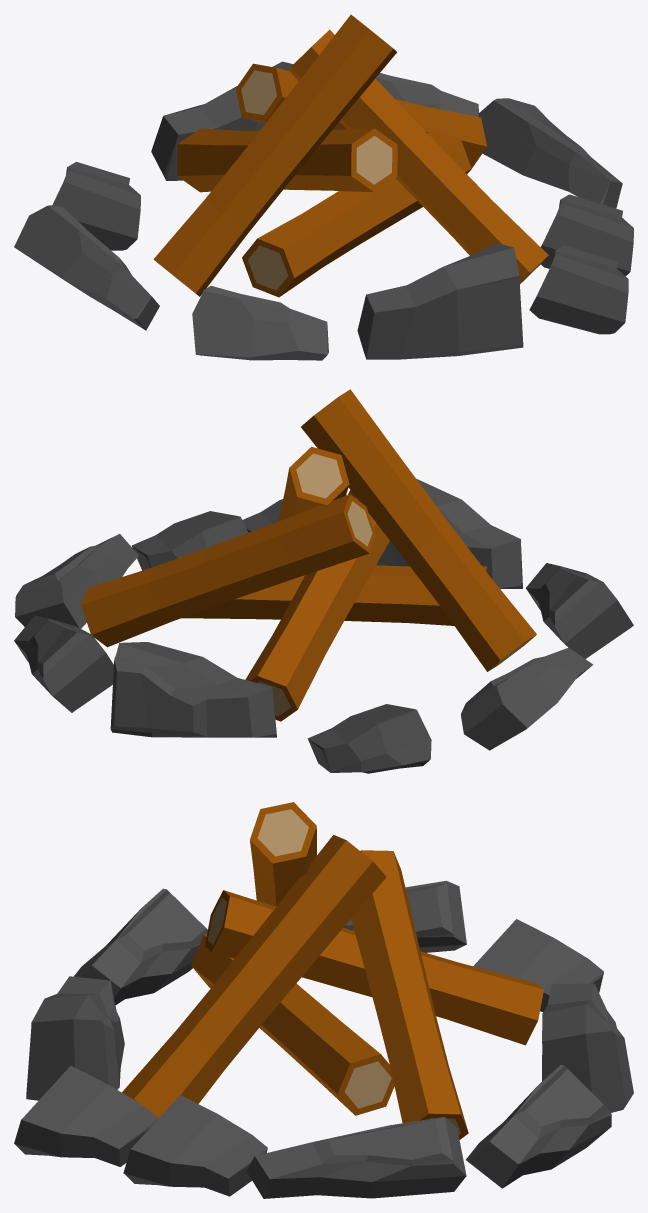
File: campfire.fbx
The picture shows the model from 3 angles, top to bottom: view 1: azimuth 30°, elevation 25°; view 2: azimuth 150°, elevation 25°; view 3: azimuth 270°, elevation 25°; orthographic projection. The views are drawn at different scales.
Visible parts, largest first — view 1: WoodLog.005, Rock_1, WoodLog.002, WoodLog.001, WoodLog.003, Rock_1.002, Rock_1.007, Rock_1.003, Rock_1.001, Rock_1.006, WoodLog.004, Rock_1.008 (+2 smaller); view 2: WoodLog.005, WoodLog.004, Rock_1.004, WoodLog.003, Rock_1.003, WoodLog.001, Rock_1.006, Rock_1.002, Rock_1.005, Rock_1.007, Rock_1, Rock_1.008 (+2 smaller); view 3: WoodLog.002, WoodLog.004, Rock_1.007, WoodLog.003, WoodLog.001, Rock_1.005, Rock_1.008, Rock_1.001, Rock_1, Rock_1.004, Rock_1.002, WoodLog.005 (+2 smaller).
Part boxes in pixels (x1,y1,x2,y2): WoodLog.005: (153, 14, 396, 296); Rock_1: (357, 243, 523, 359); WoodLog.002: (288, 29, 548, 283); WoodLog.001: (242, 129, 471, 297); WoodLog.003: (177, 128, 397, 192); Rock_1.002: (192, 286, 328, 360); Rock_1.007: (478, 98, 622, 208); Rock_1.003: (14, 205, 159, 330); Rock_1.001: (529, 245, 628, 334); Rock_1.006: (52, 162, 140, 250); WoodLog.004: (236, 63, 486, 171); Rock_1.008: (541, 194, 633, 276); WoodLog.005: (301, 389, 536, 671); WoodLog.004: (81, 494, 375, 647); Rock_1.004: (110, 642, 276, 737); WoodLog.003: (245, 490, 389, 721); Rock_1.003: (461, 647, 593, 750); WoodLog.001: (179, 556, 487, 625); Rock_1.006: (307, 704, 431, 773); Rock_1.002: (526, 563, 633, 658); Rock_1.005: (14, 615, 113, 712); Rock_1.007: (15, 534, 138, 628); Rock_1: (376, 479, 522, 588); Rock_1.008: (131, 511, 248, 570); WoodLog.002: (122, 835, 386, 1118); WoodLog.004: (351, 850, 468, 1139); Rock_1.007: (246, 1117, 466, 1198); WoodLog.003: (205, 890, 543, 1045); WoodLog.001: (191, 934, 394, 1115); Rock_1.005: (466, 1065, 611, 1188); Rock_1.008: (123, 1095, 267, 1196); Rock_1.001: (14, 1066, 158, 1166); Rock_1: (26, 976, 124, 1100); Rock_1.004: (542, 983, 633, 1112); Rock_1.002: (74, 888, 207, 1005); WoodLog.005: (250, 802, 316, 906).
Bounding box in the file's own units: 5.39 × 2.59 × 5.13.
